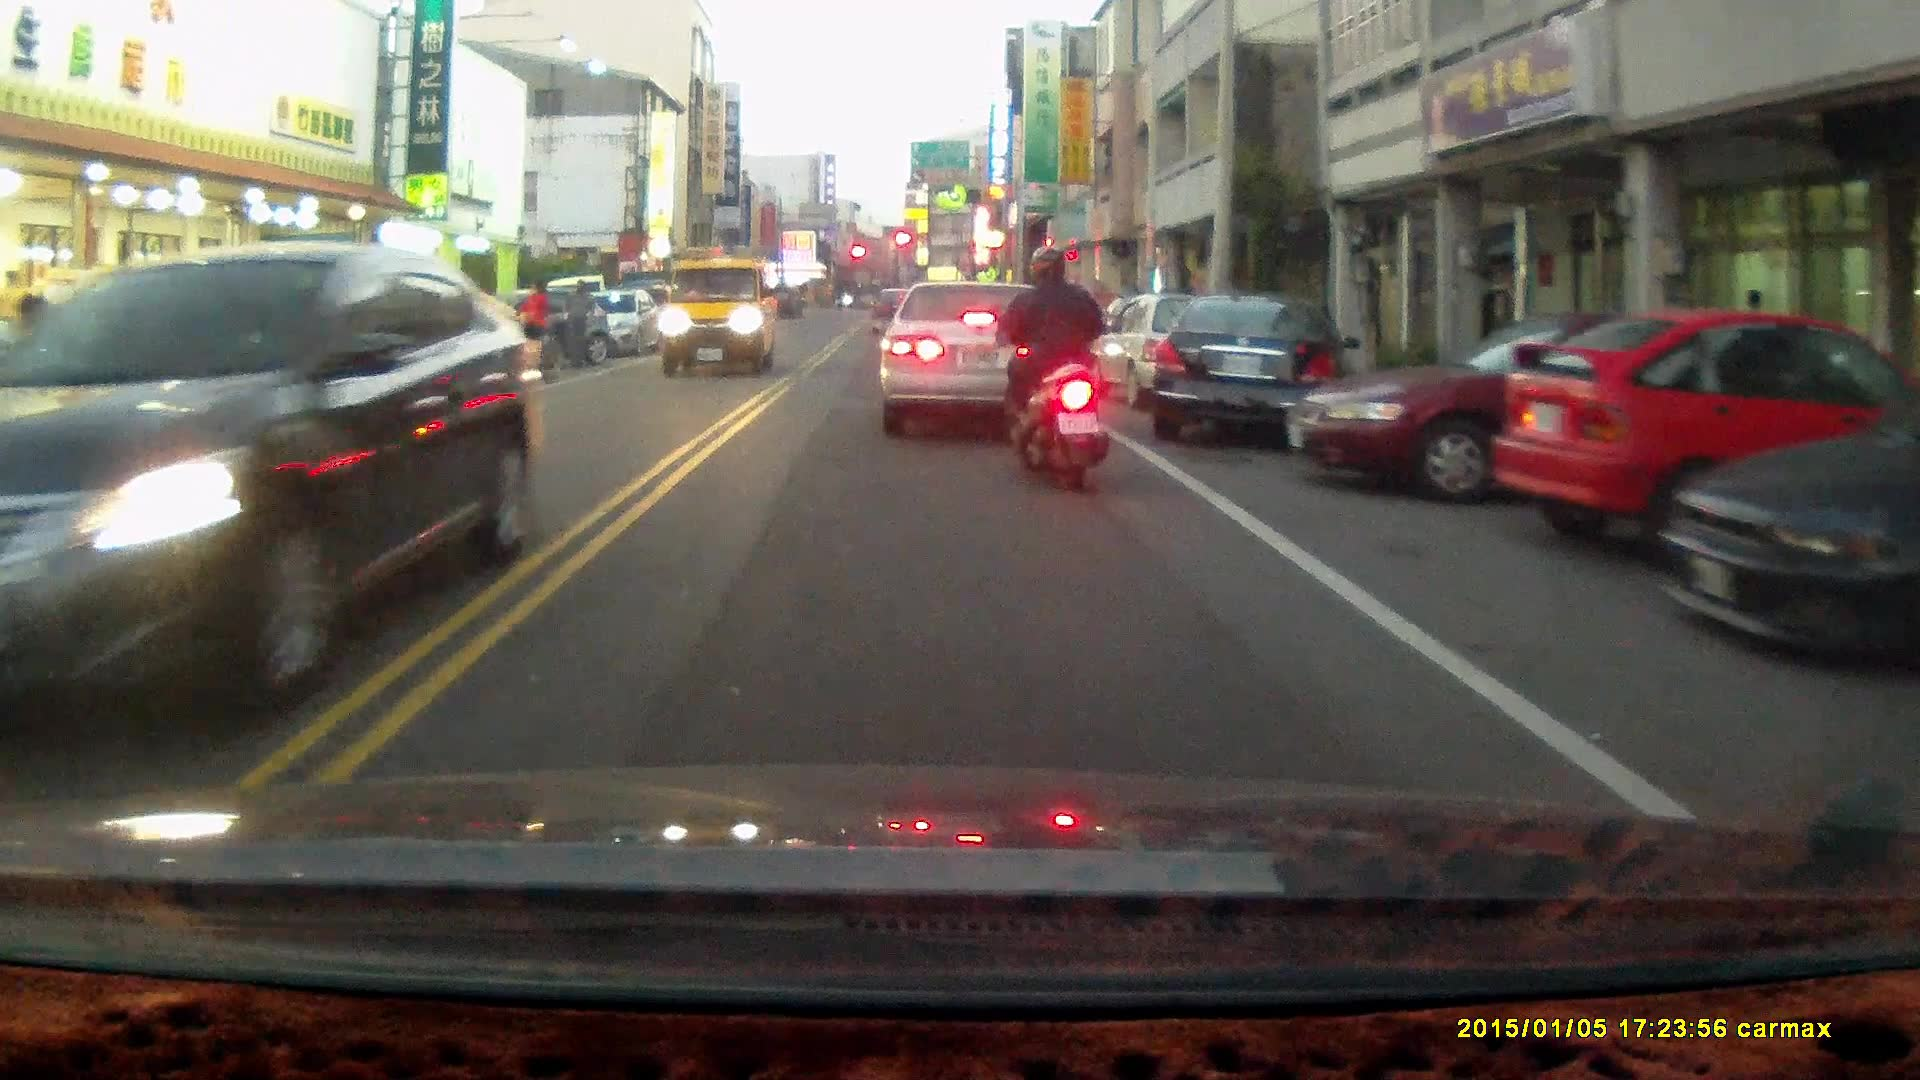pedestrian: (564, 279, 597, 372)
rider: (986, 245, 1118, 496), (493, 277, 561, 385)
vehicle: (1, 245, 540, 739), (1490, 307, 1889, 573), (1288, 307, 1753, 505), (1653, 343, 1920, 676), (1141, 293, 1341, 445), (878, 276, 1066, 428), (658, 256, 774, 379)
